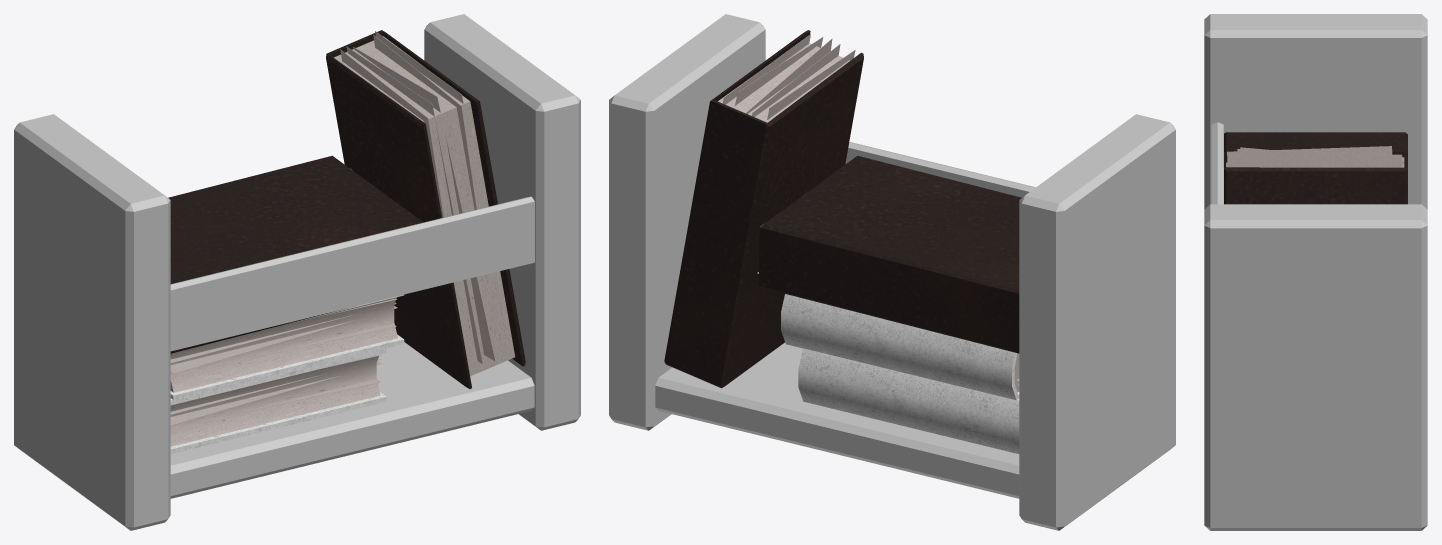
Rendered from BookshelfB.fbx.
3 views of the same model, side by side, from view 1: azimuth 30°, elevation 25°; view 2: azimuth 150°, elevation 25°; view 3: azimuth 270°, elevation 25° (orthographic). The views are drawn at different scales.
Parts seen in each view (by area): view 1: 立方体, 立方体.003, 立方体.001, 立方体.002, 立方体.008, 立方体.006, 平面, 立方体.005, 立方体.007, 平面.003, 平面.002; view 2: 立方体, 立方体.003, 立方体.001, 立方体.005, 立方体.007, 平面, 立方体.002; view 3: 立方体, 立方体.001, 平面, 立方体.003.
Boxes of the visible parts, x1,y1,x2,y2 form: 立方体: (14, 14, 580, 530); 立方体.003: (168, 155, 423, 353); 立方体.001: (326, 30, 525, 388); 立方体.002: (334, 36, 515, 376); 立方体.008: (170, 297, 397, 392); 立方体.006: (170, 356, 380, 446); 平面: (340, 31, 495, 364); 立方体.005: (170, 348, 386, 453); 立方体.007: (170, 294, 404, 400); 平面.003: (170, 298, 397, 373); 平面.002: (170, 354, 381, 425); 立方体: (609, 14, 1175, 530); 立方体.003: (759, 155, 1021, 353); 立方体.001: (664, 30, 863, 388); 立方体.005: (798, 348, 1019, 453); 立方体.007: (781, 294, 1019, 400); 平面: (723, 34, 855, 119); 立方体.002: (718, 43, 849, 122); 立方体: (1204, 14, 1427, 530); 立方体.001: (1224, 152, 1407, 204); 平面: (1226, 146, 1404, 167); 立方体.003: (1224, 132, 1407, 151).
Bounding box in the file's own units: 195 × 141 × 87.
